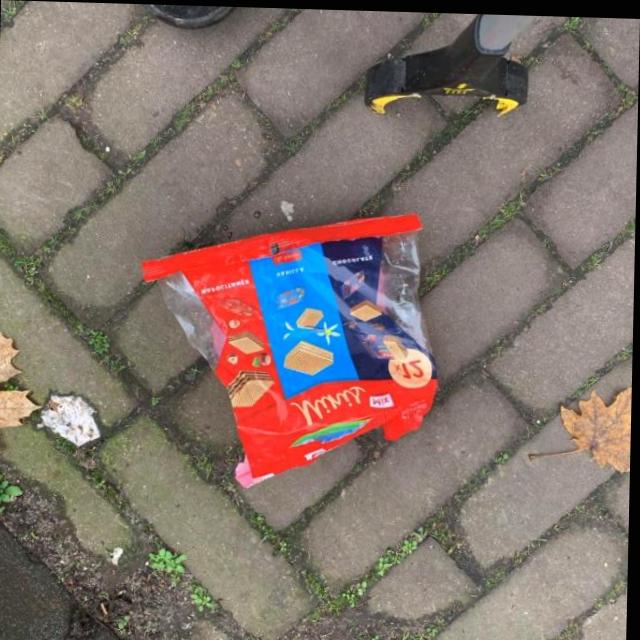Paper: (39, 392, 104, 449)
Plastic: (136, 201, 447, 496)
